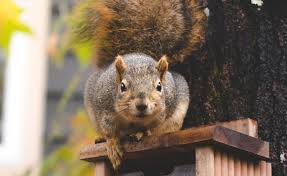Ardilla: (81, 51, 195, 140)
